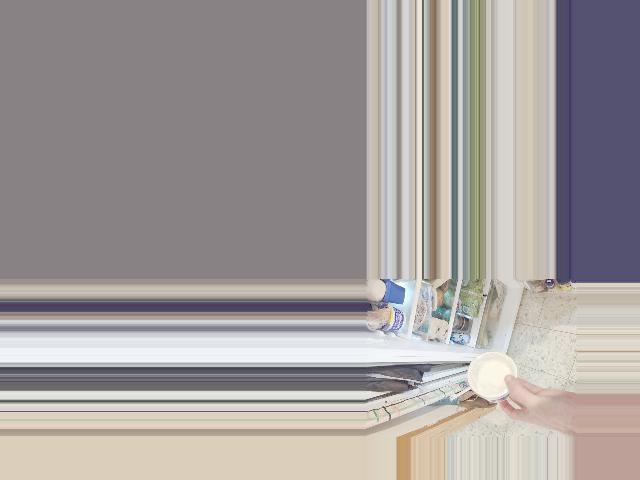cotage: (468, 356, 521, 405)
